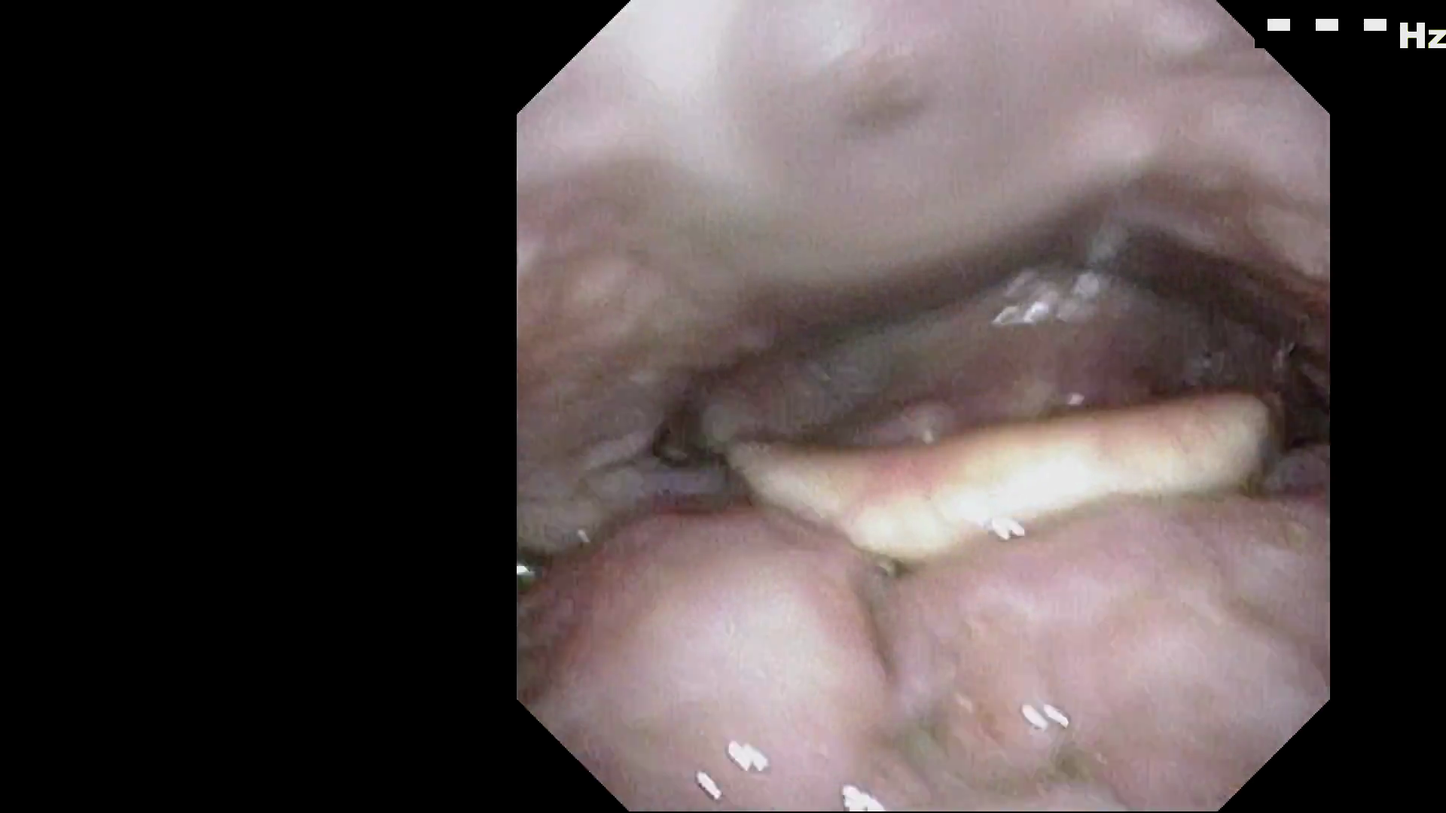epiglottis: (732, 403, 1308, 538)
